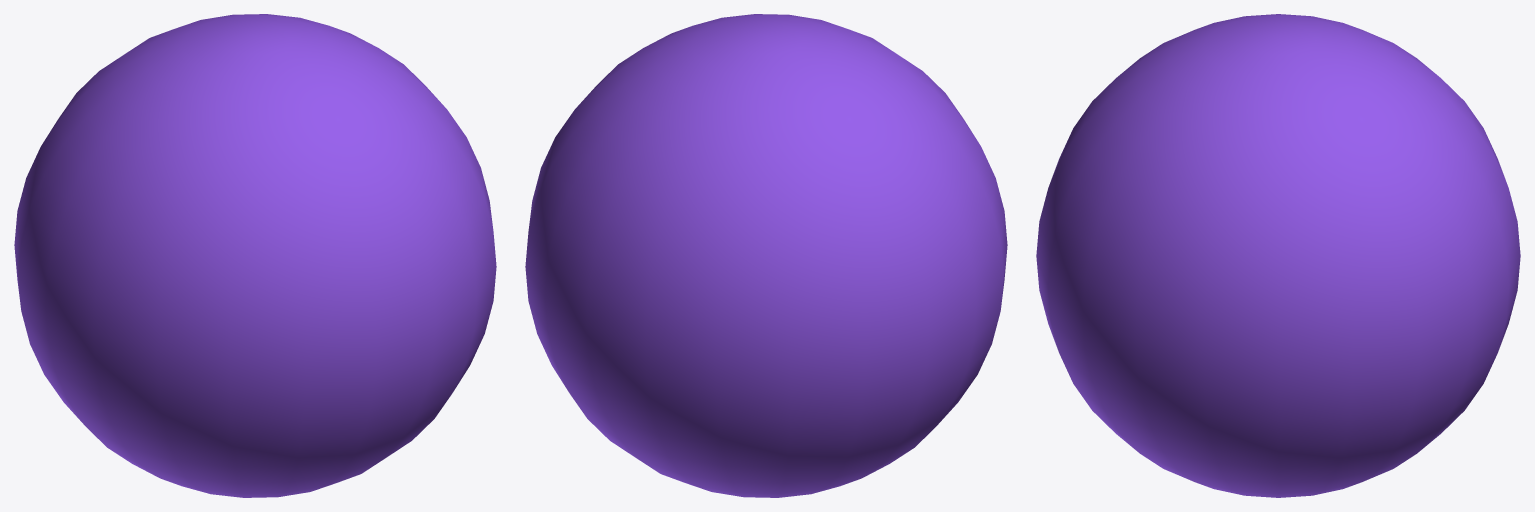
File: Health.fbx
The picture shows the model from 3 angles, left to right: view 1: azimuth 30°, elevation 25°; view 2: azimuth 150°, elevation 25°; view 3: azimuth 270°, elevation 25°; orthographic projection.
Parts seen in each view (by area): view 1: pSphere18; view 2: pSphere18; view 3: pSphere18.
Boxes of the visible parts, x1,y1,x2,y2 form: pSphere18: (14,14,496,497); pSphere18: (525,14,1007,497); pSphere18: (1036,14,1520,497).
Size of the model in its own units: 2.44 by 2.44 by 2.44.
